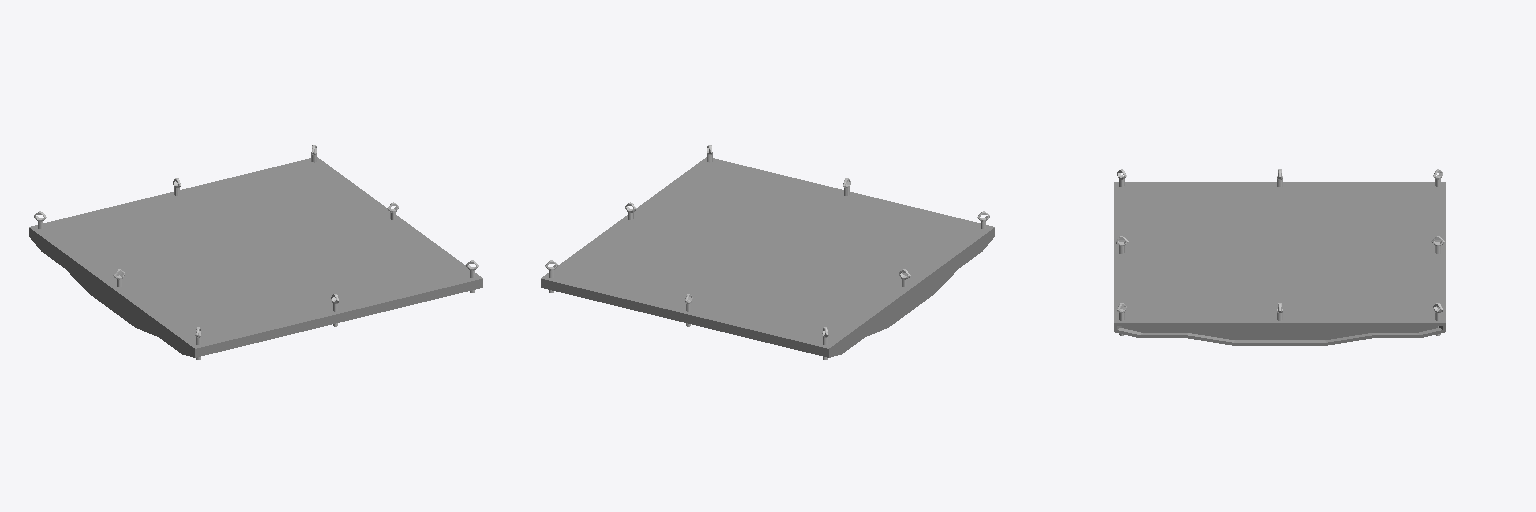
File: 3x3missiletransporter.obj
The picture shows the model from 3 angles: view 1: azimuth 30°, elevation 25°; view 2: azimuth 150°, elevation 25°; view 3: azimuth 270°, elevation 25°; orthographic projection.
Parts seen in each view (by area): view 1: Cube; view 2: Cube; view 3: Cube.
Part boxes in pixels (x1,y1,x2,y2): Cube: (29, 157, 482, 357); Cube: (541, 157, 994, 357); Cube: (1114, 182, 1445, 345).
Bounding box in the file's own units: 2 × 0.2571 × 2.